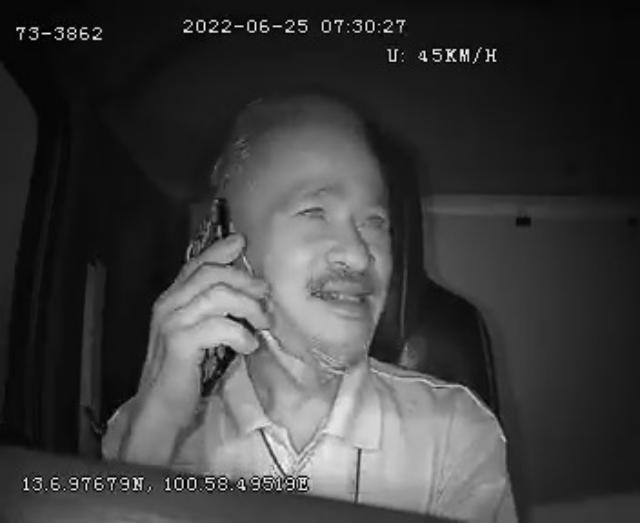PhoneUse: (180, 197, 256, 389)
SafeDriving: (350, 198, 398, 240), (287, 190, 334, 230)
